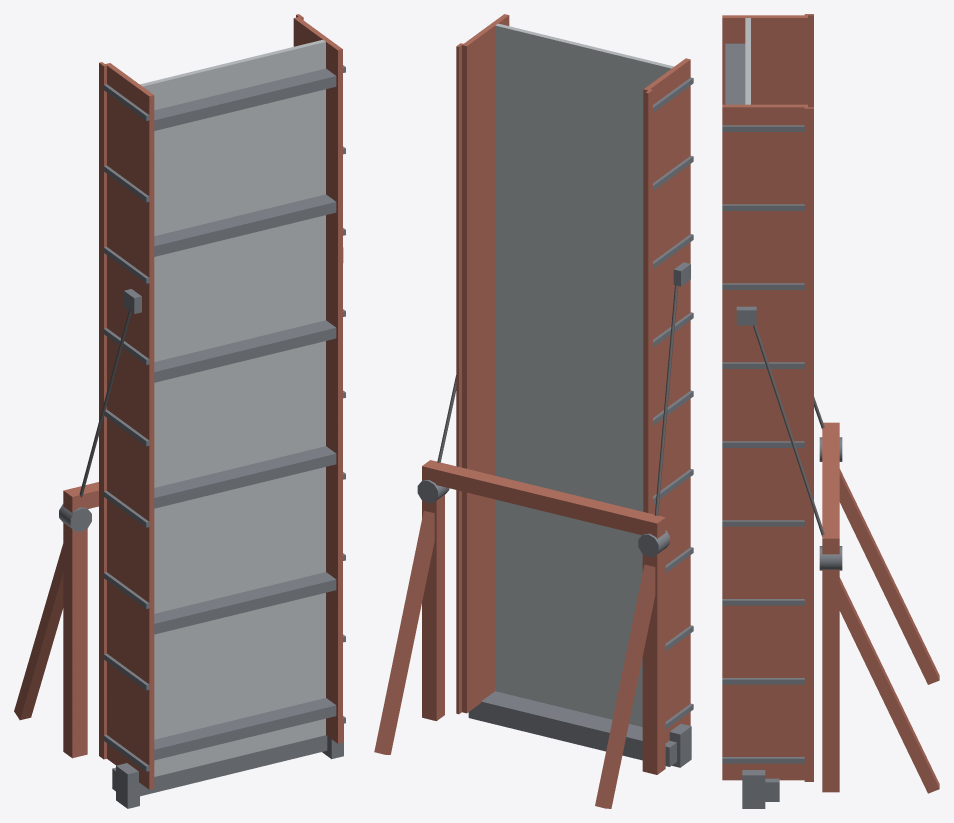
File: bascule_iron.glb
3 views of the same model, side by side, from view 1: azimuth 30°, elevation 25°; view 2: azimuth 150°, elevation 25°; view 3: azimuth 270°, elevation 25° (orthographic). The views are drawn at different scales.
Visible parts, largest first — view 1: span, bridge, cable_l; view 2: span, bridge, cable_l; view 3: span, bridge, cable_r.
Boxes of the visible parts, box(x1,y1,x2,y2) form: span: box(99, 14, 345, 789); bridge: box(14, 482, 343, 808); cable_l: box(79, 310, 131, 497); span: box(456, 14, 693, 742); bridge: box(374, 460, 691, 808); cable_l: box(654, 285, 678, 515); span: box(722, 14, 813, 781); bridge: box(742, 422, 939, 808); cable_r: box(753, 325, 824, 536).
Bounding box in the file's own units: 4.92 × 13.45 × 3.8.
